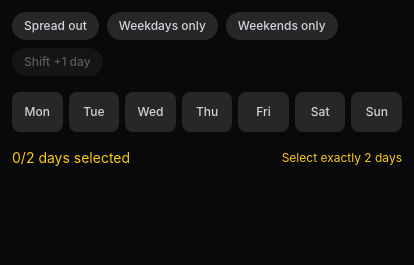
Test: WorkoutDaySelector › lets a weekend day be selected like any other
Click the button with aria-label "Saturday" at (320, 112), box [295,92,346,132]
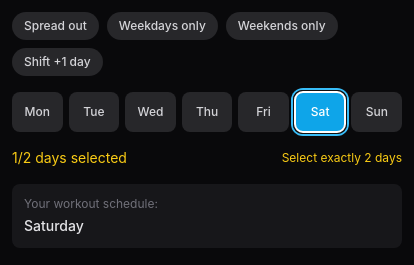
Click the button with aria-label "Sunday" at (377, 112), box [352,92,402,132]
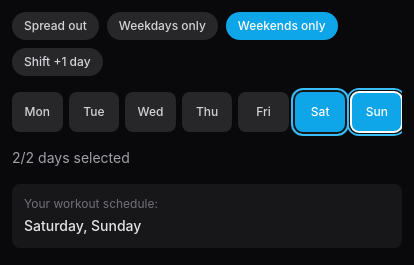
Result: the text "2/2 days selected" is shown at [12,148,130,168]
